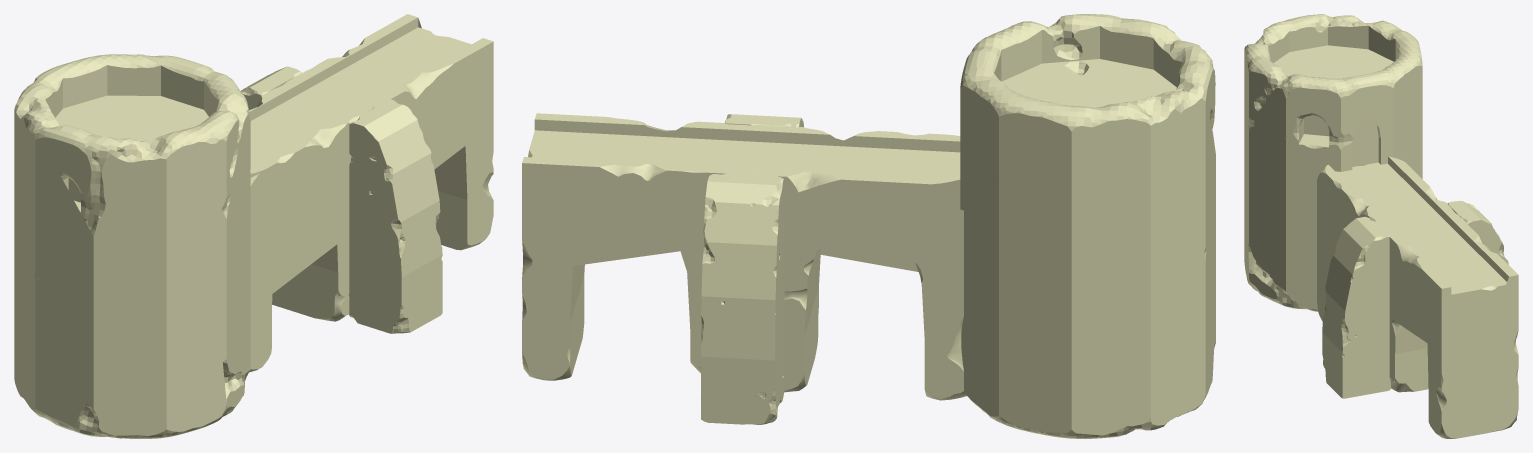
Rendered from torreon.fbx.
The picture shows the model from 3 angles, left to right: view 1: azimuth 30°, elevation 25°; view 2: azimuth 150°, elevation 25°; view 3: azimuth 270°, elevation 25°; orthographic projection. The views are drawn at different scales.
Visible parts, largest first — view 1: Cylinder.005_dmg, Cube.079_dmg, Cube.067_dmg, Cube.078_dmg; view 2: Cylinder.005_dmg, Cube.079_dmg, Cube.078_dmg, Cube.067_dmg; view 3: Cylinder.005_dmg, Cube.079_dmg, Cube.067_dmg, Cube.078_dmg.
Boxes of the visible parts, <box> form: Cylinder.005_dmg: <box>14,54,250,438</box>; Cube.079_dmg: <box>249,14,493,372</box>; Cube.067_dmg: <box>349,99,442,333</box>; Cube.078_dmg: <box>240,66,301,109</box>; Cylinder.005_dmg: <box>960,14,1215,438</box>; Cube.079_dmg: <box>522,113,966,400</box>; Cube.078_dmg: <box>701,173,784,424</box>; Cube.067_dmg: <box>724,114,803,127</box>; Cylinder.005_dmg: <box>1244,14,1422,311</box>; Cube.079_dmg: <box>1317,156,1518,438</box>; Cube.067_dmg: <box>1322,216,1390,398</box>; Cube.078_dmg: <box>1447,201,1508,264</box>.
Bounding box in the file's own units: 6164 × 3308 × 3544.
